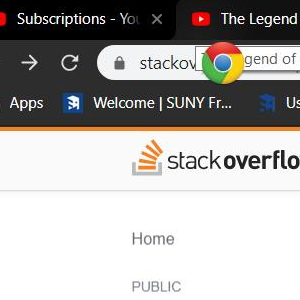chrome: (202, 41, 244, 85)
